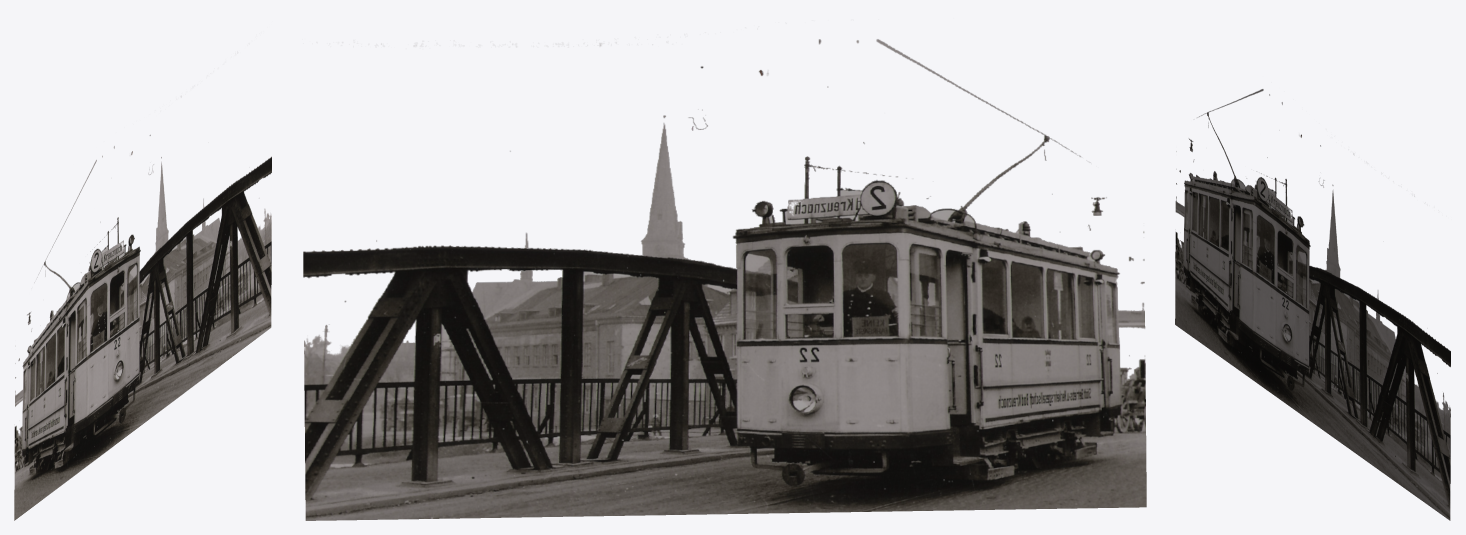
The model's file is asset.gltf.
The picture shows the model from 3 angles, left to right: view 1: azimuth 30°, elevation 25°; view 2: azimuth 150°, elevation 25°; view 3: azimuth 270°, elevation 25°; orthographic projection. The views are drawn at different scales.
Visible parts, largest first — view 1: Ochsenbr%C3%BCcke; view 2: Ochsenbr%C3%BCcke; view 3: Ochsenbr%C3%BCcke.
Boxes of the visible parts, left/top/right/bottom form: Ochsenbr%C3%BCcke: left=14, top=96, right=271, bottom=520; Ochsenbr%C3%BCcke: left=303, top=39, right=1146, bottom=520; Ochsenbr%C3%BCcke: left=1175, top=89, right=1450, bottom=520.
Bounding box in the file's own units: 4.42 × 3.37 × 2.68.
1 material, 1 textured.
